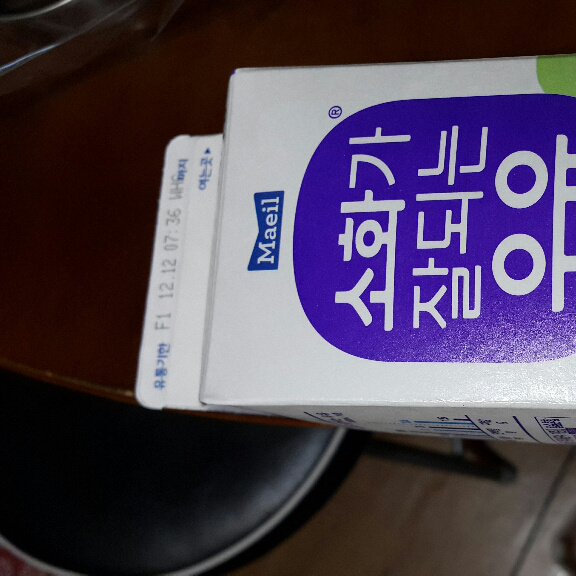milk: (136, 52, 576, 444)
